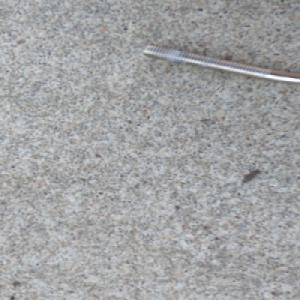ClampPart: (132, 42, 300, 85)
